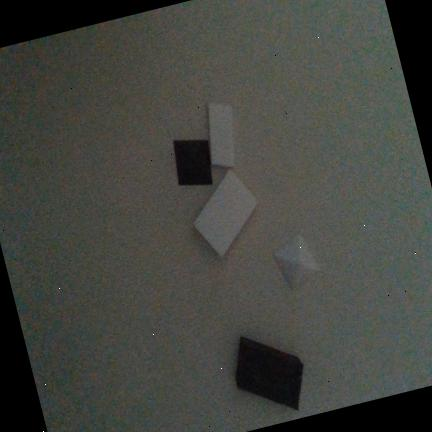Paralelepipedo: (193, 170, 258, 254), (235, 336, 303, 410), (208, 102, 235, 167)
Piramide: (273, 233, 320, 290), (173, 139, 213, 185)
